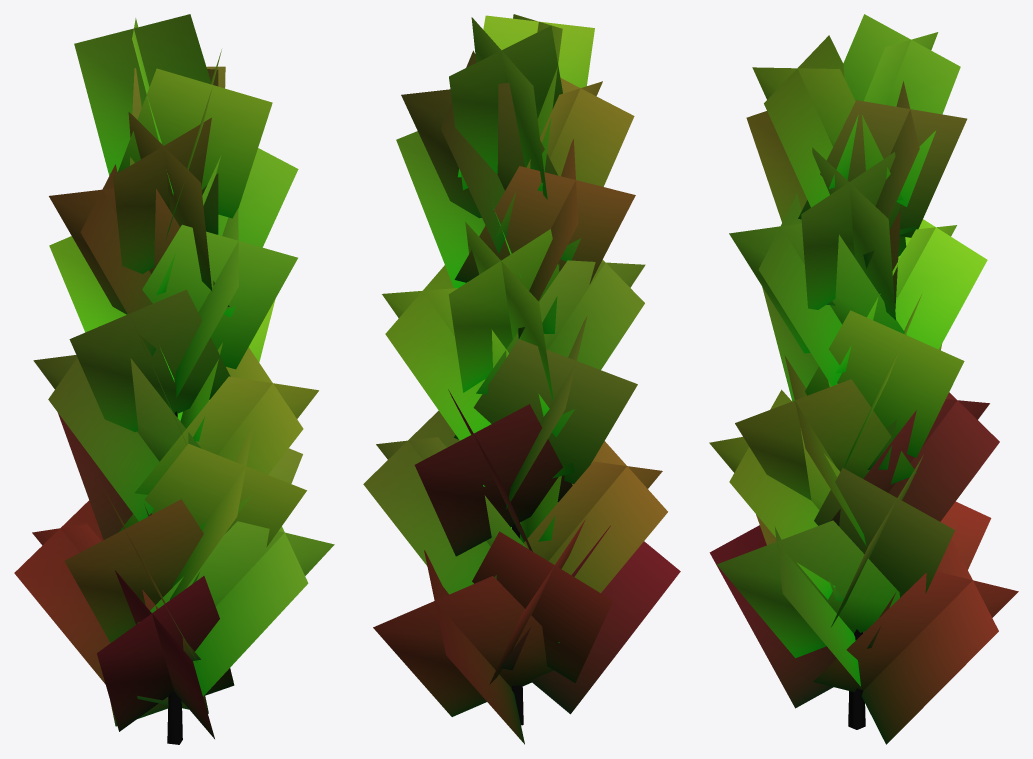
Rendered from SuperTree_17.fbx.
The picture shows the model from 3 angles, left to right: view 1: azimuth 30°, elevation 25°; view 2: azimuth 150°, elevation 25°; view 3: azimuth 270°, elevation 25°; orthographic projection. The views are drawn at different scales.
Parts seen in each view (by area): view 1: SuperTree_17; view 2: SuperTree_17; view 3: SuperTree_17.
Boxes of the visible parts, x1,y1,x2,y2 form: SuperTree_17: (14, 14, 334, 744); SuperTree_17: (363, 14, 680, 744); SuperTree_17: (709, 14, 1018, 744).
Bounding box in the file's own units: 427 × 1089 × 441.
